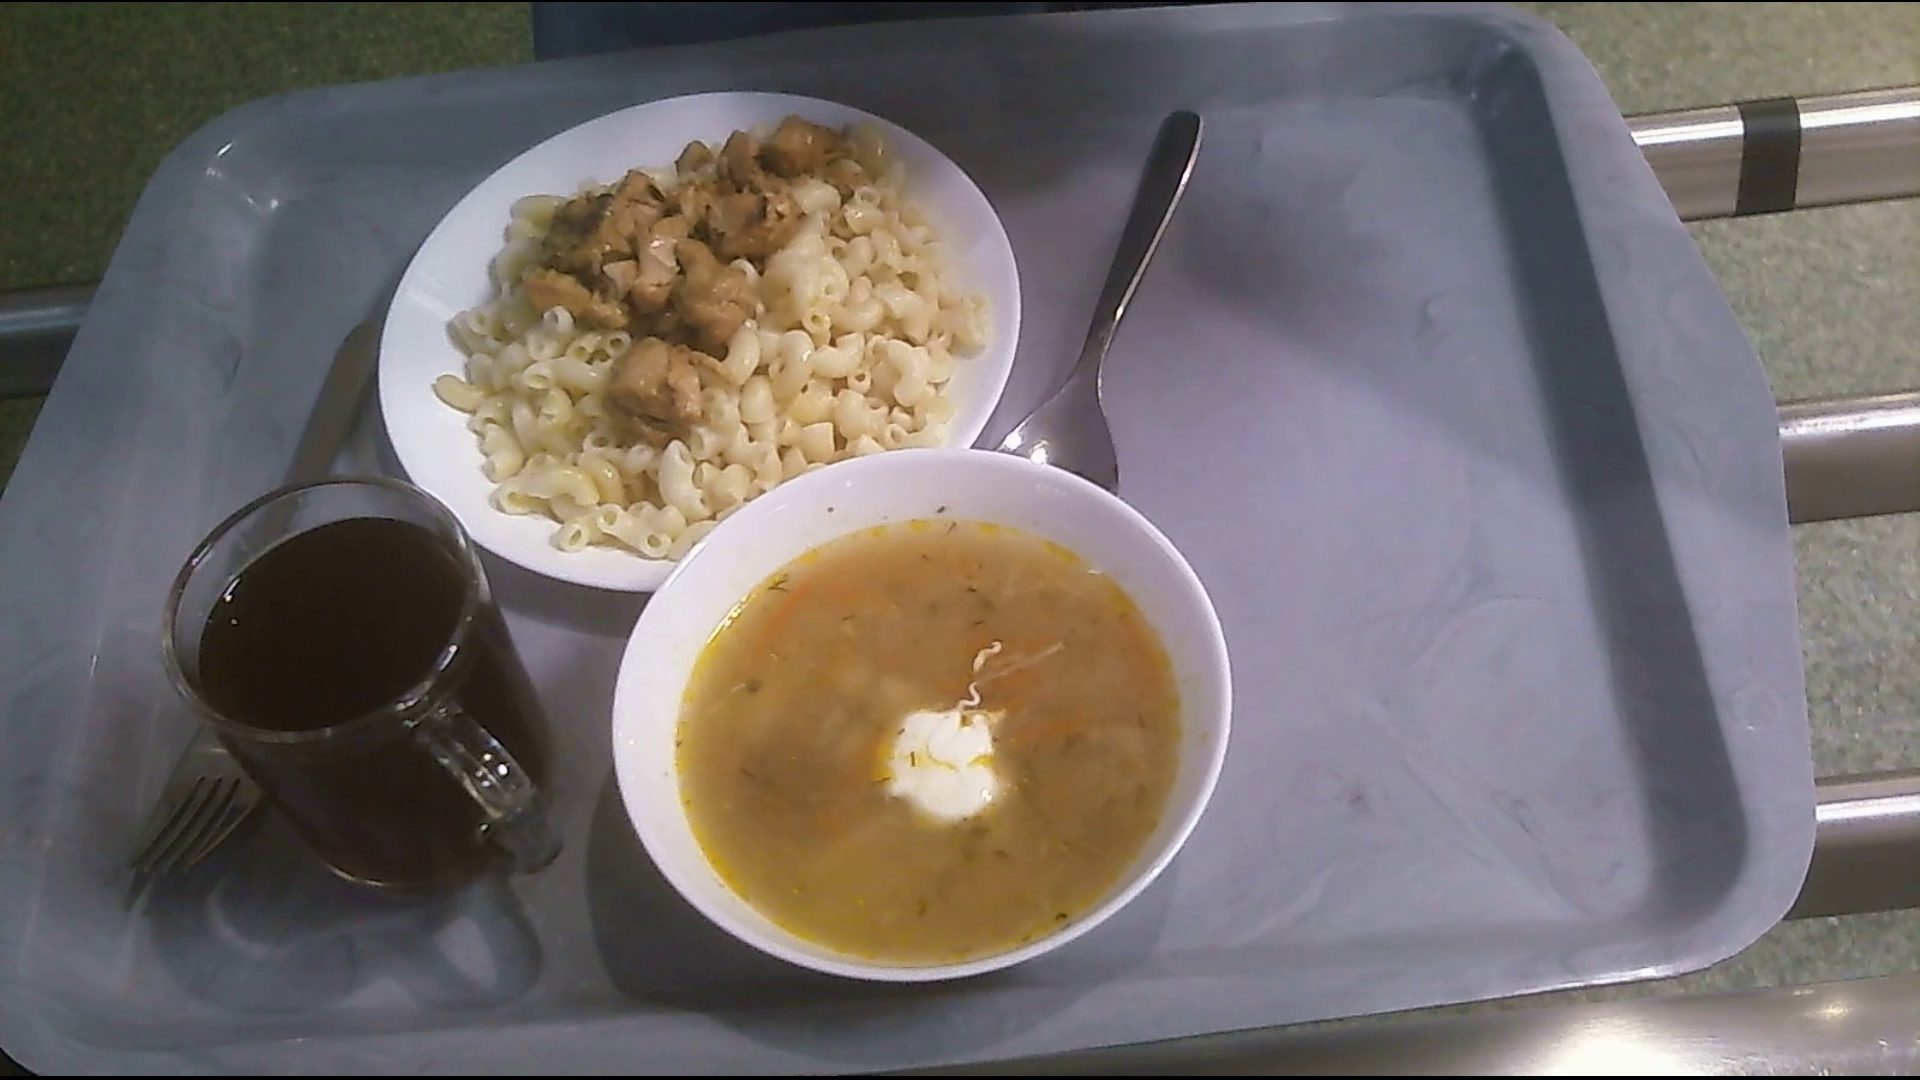bowl: (604, 451, 1222, 980)
cutlery: (138, 326, 378, 887), (992, 107, 1222, 506)
drink: (167, 479, 559, 895)
plate: (375, 92, 1017, 597)
